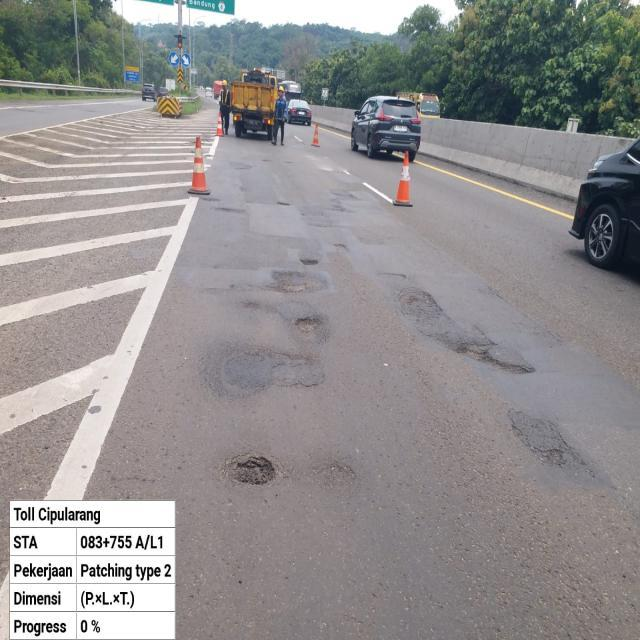Buraco: (452, 340, 538, 377), (217, 451, 280, 488), (293, 314, 325, 335), (297, 257, 321, 267), (275, 200, 291, 208)
